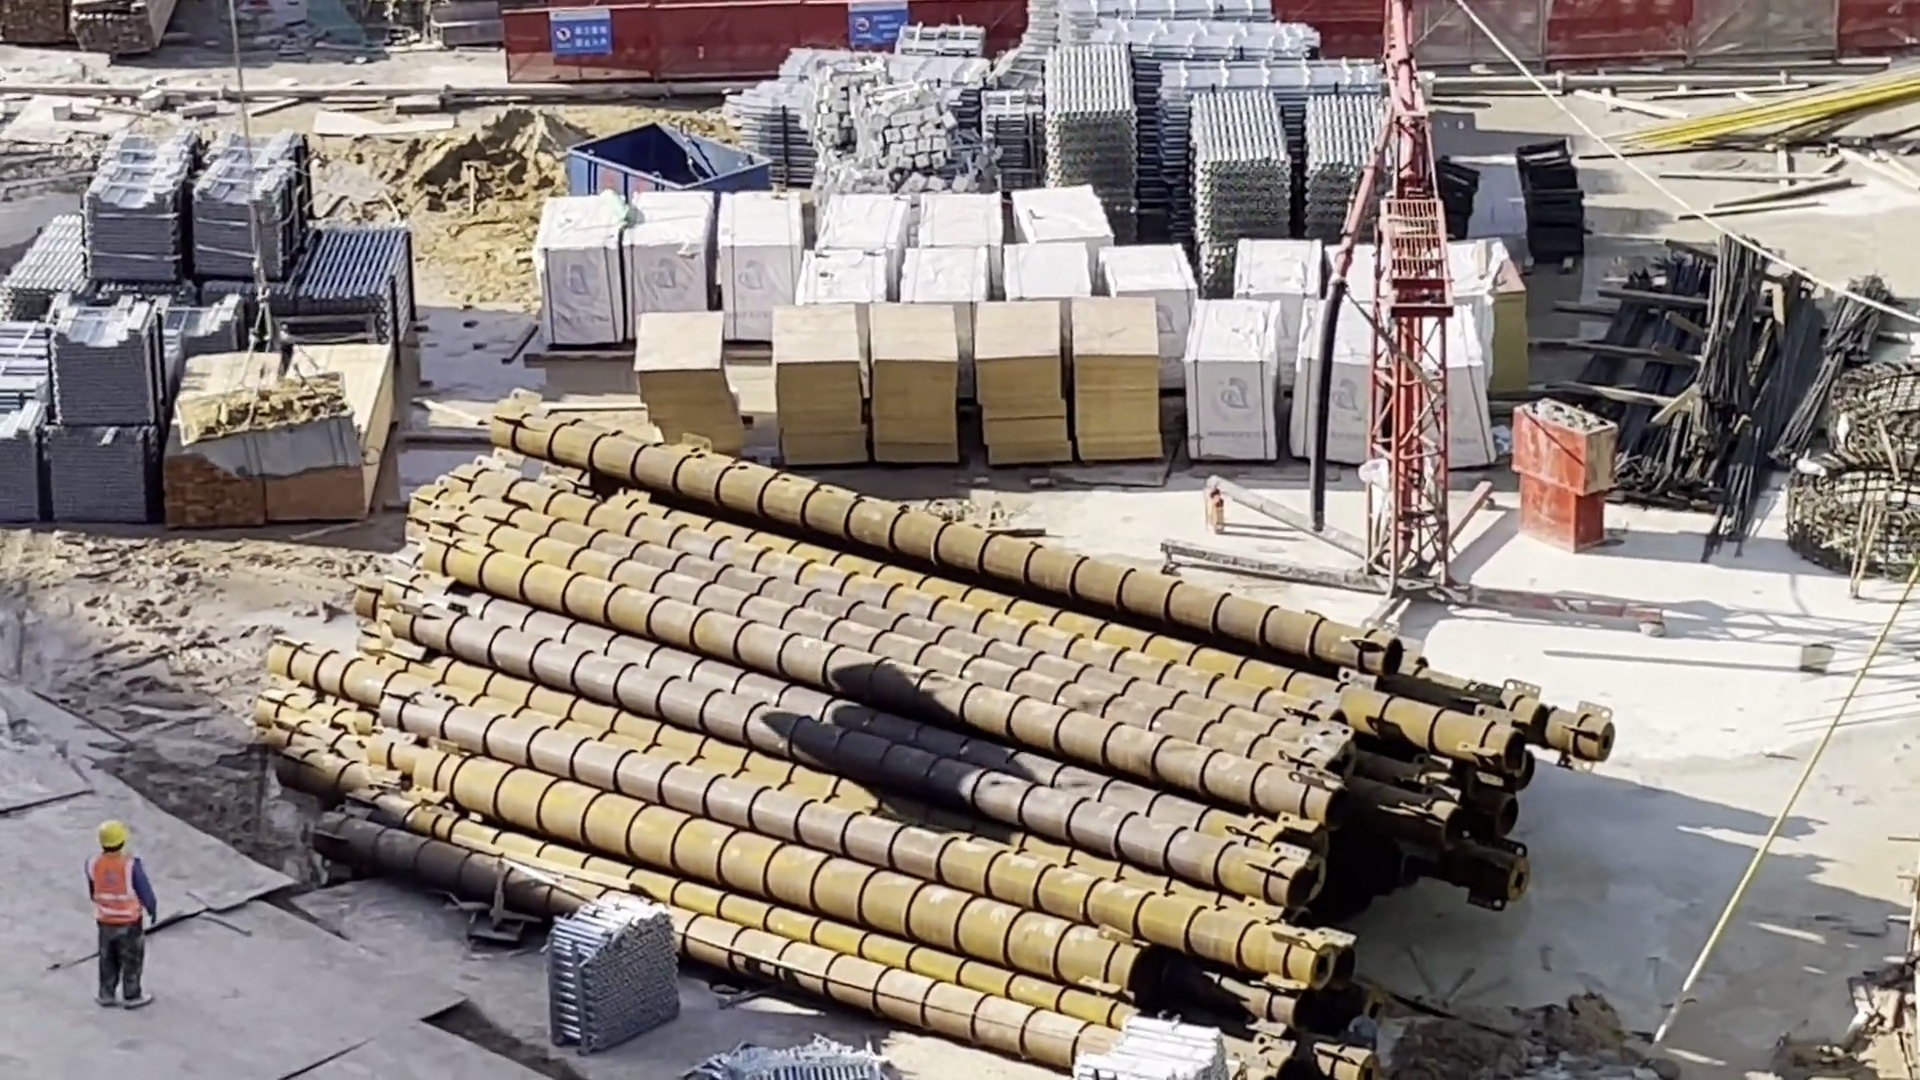board: (1055, 297, 1171, 483), (295, 364, 396, 544), (961, 301, 1064, 475), (620, 316, 727, 475), (880, 298, 958, 463), (761, 324, 845, 467)
fence: (1364, 3, 1920, 77), (513, 5, 1008, 63)
helmet: (85, 819, 125, 852)
hopper: (560, 133, 770, 194), (200, 396, 354, 477)
person: (76, 815, 159, 1012)
rebar: (1710, 311, 1813, 509), (1602, 276, 1698, 465), (1787, 295, 1883, 462), (1531, 276, 1643, 414), (1679, 263, 1751, 409)
scaffold: (537, 896, 673, 1041), (1043, 56, 1144, 205), (1305, 105, 1387, 228), (305, 229, 410, 324), (1228, 110, 1300, 230), (1, 217, 91, 309), (1184, 60, 1400, 93), (1079, 1028, 1207, 1080), (719, 1035, 856, 1080), (1124, 24, 1292, 57)
slogan: (555, 14, 613, 49), (848, 8, 898, 43)
vest: (91, 859, 145, 935)
wood: (164, 447, 263, 541), (79, 19, 163, 81), (8, 1, 76, 56), (61, 1, 153, 17)
